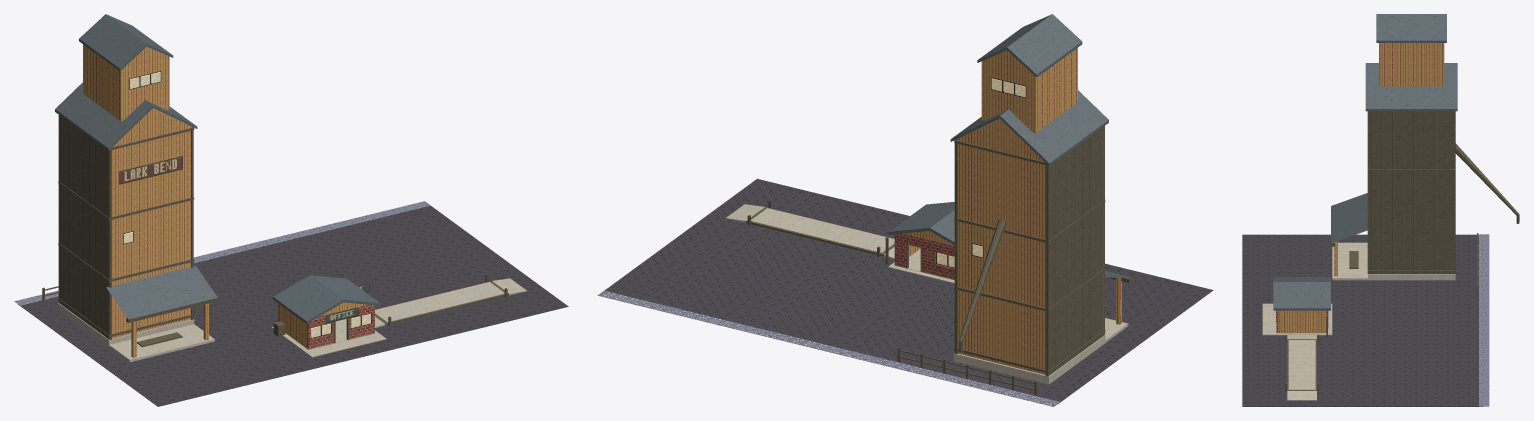
Rendered from lark-bend-1925.glb.
3 views of the same model, side by side, from view 1: azimuth 30°, elevation 25°; view 2: azimuth 150°, elevation 25°; view 3: azimuth 270°, elevation 25° (orthographic). The views are drawn at different scales.
Parts seen in each view (by area): view 1: lot, timber_elevator, scale_office, sign_wood; view 2: lot, timber_elevator, scale_office; view 3: lot, timber_elevator, scale_office.
Part boxes in pixels (x1,y1,x2,y2): lot: (14, 201, 568, 406); timber_elevator: (55, 14, 217, 362); scale_office: (273, 275, 380, 349); sign_wood: (119, 156, 182, 184); lot: (597, 178, 1213, 406); timber_elevator: (950, 14, 1130, 384); scale_office: (888, 202, 954, 280); lot: (1242, 233, 1489, 406); timber_elevator: (1331, 14, 1519, 280); scale_office: (1273, 277, 1330, 333).
Size of what is drawn, in the model's own units: 48 by 32.35 by 32.68.
Materials: 9 (9 with a texture image).
